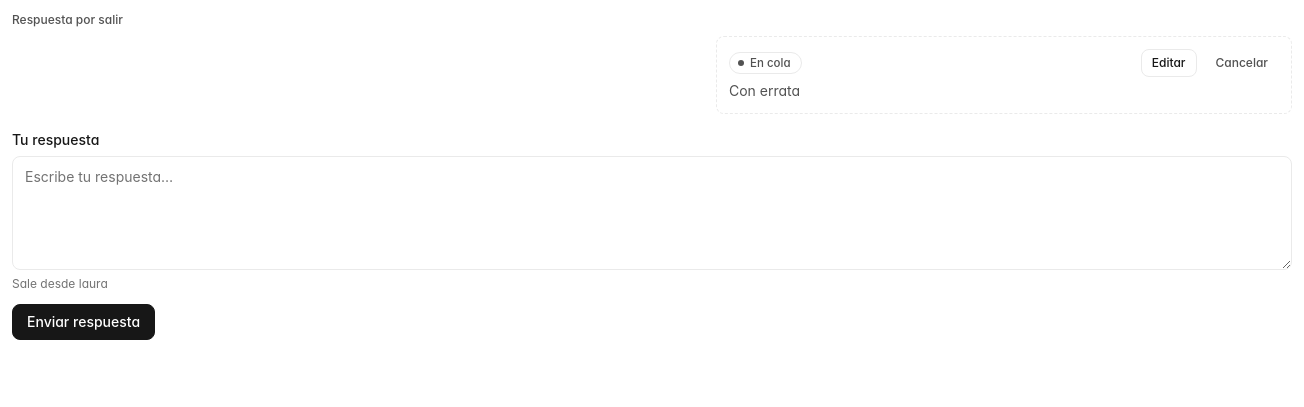
Test case: responder › una respuesta en cola se cancela, o se edita: su texto vuelve a «Tu respuesta»
This screenshot has width=1304, height=407.
expect the text "Respuesta por salir" is shown: met, box [12,12,123,27]
Step 1. Click the button "Editar" → (1169, 63), box [1141,49,1196,77]
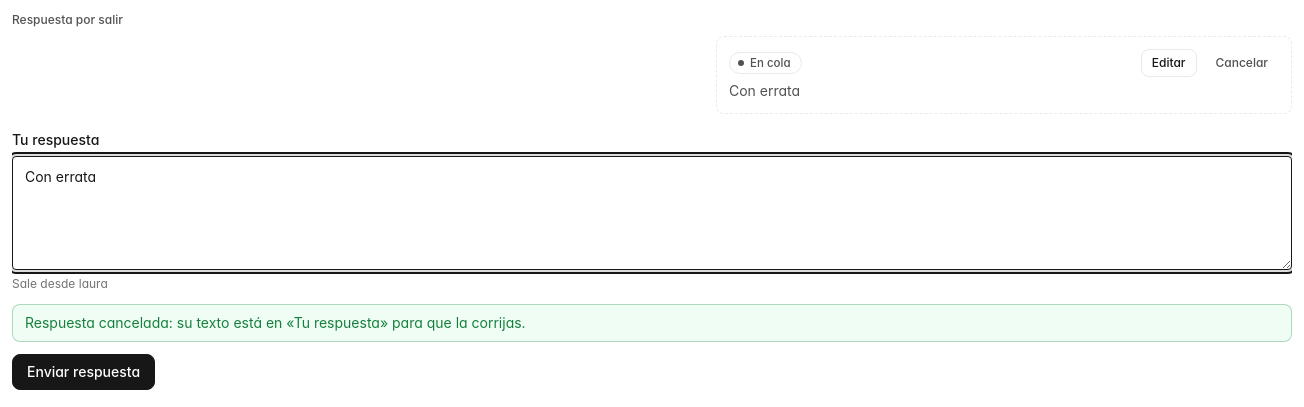
expect the text box labelled "Tu respuesta" holds "Con errata": met, box [12,156,1292,270]
expect the text "Respuesta cancelada: su texto está en «Tu respuesta» para que la corrijas." is shown: met, box [12,304,1292,342]
